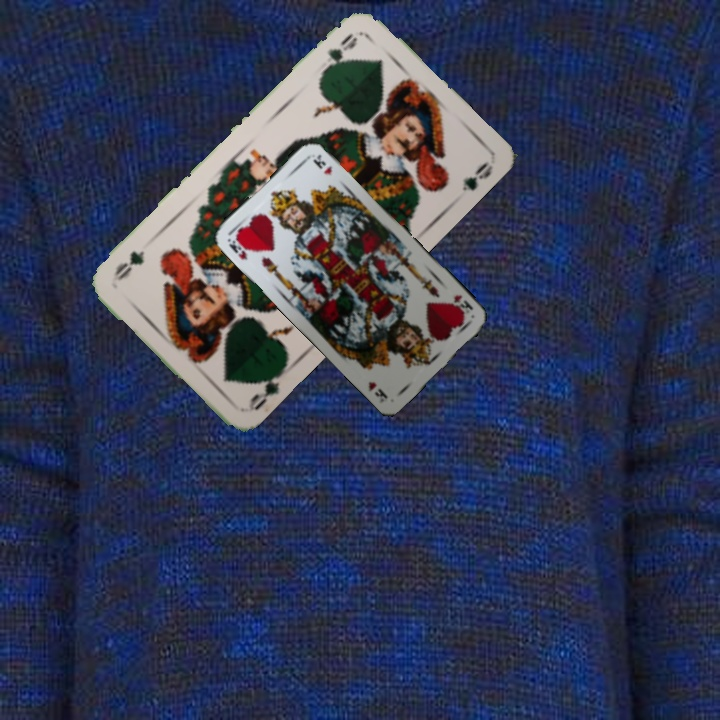GO: (317, 28, 360, 78), (244, 365, 287, 414)
HK: (224, 231, 253, 263), (447, 291, 475, 320)
